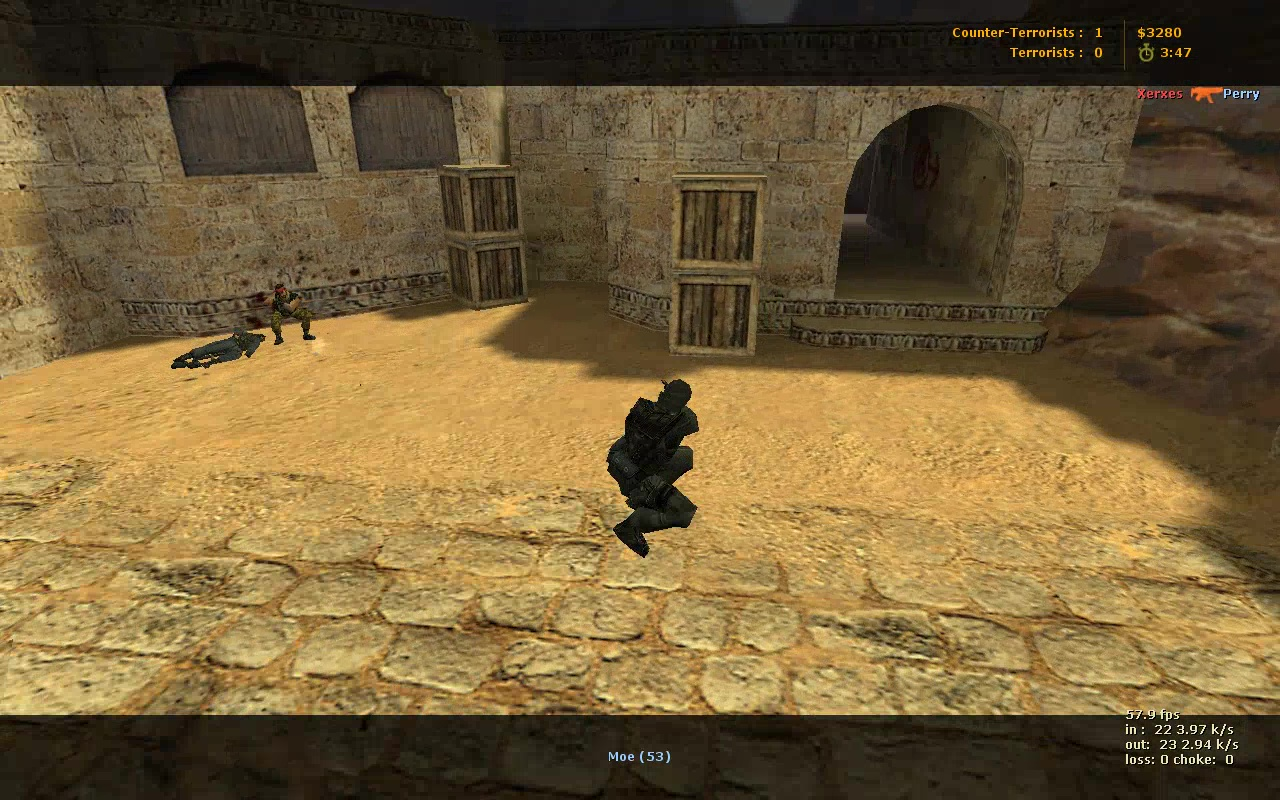ct: (600, 378, 703, 555)
dead: (172, 331, 264, 369)
terr1: (267, 285, 315, 346)
